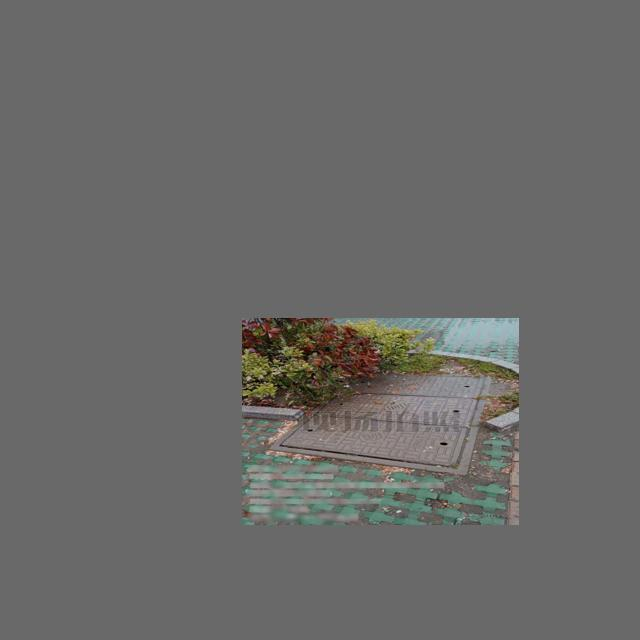good: (268, 374, 492, 474)
